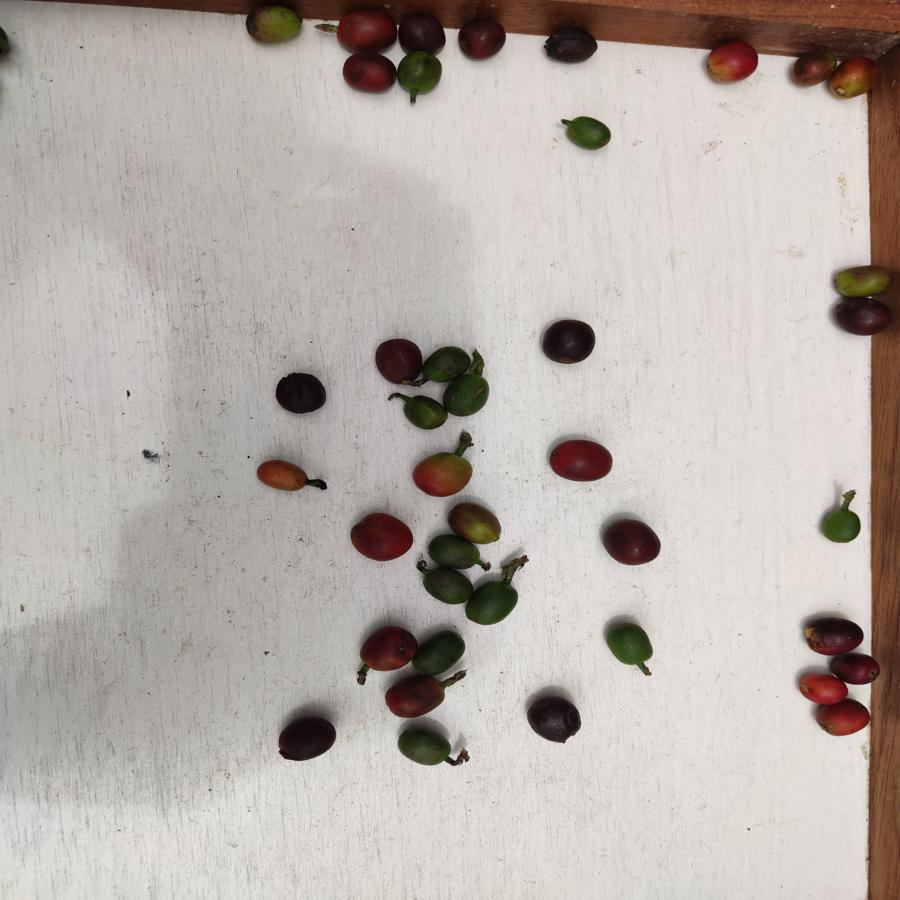Inmaduro: (464, 578, 520, 626), (605, 619, 657, 669), (559, 113, 616, 153), (443, 374, 492, 419), (814, 504, 864, 546), (397, 729, 452, 767), (432, 535, 486, 573), (415, 630, 467, 669), (398, 53, 448, 93), (421, 568, 468, 610), (424, 343, 468, 385), (402, 394, 445, 433)
Maduro: (349, 510, 413, 567), (549, 439, 615, 483), (333, 9, 398, 53), (704, 40, 760, 84), (815, 698, 869, 742), (342, 53, 396, 94), (796, 675, 848, 712)
Pinton: (411, 452, 475, 498), (246, 3, 304, 47), (253, 459, 310, 498), (834, 262, 892, 298), (450, 501, 502, 541), (834, 55, 874, 106)
Sobremaduro: (524, 695, 584, 748), (599, 518, 663, 567), (275, 713, 337, 763), (539, 316, 597, 367), (356, 624, 414, 672), (275, 370, 331, 419), (802, 615, 867, 656), (544, 23, 604, 67), (383, 675, 446, 716), (455, 17, 507, 61), (375, 339, 422, 386), (832, 297, 890, 335), (401, 11, 445, 53), (827, 654, 883, 683)
